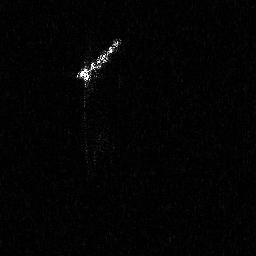ship: (74, 36, 120, 91)
